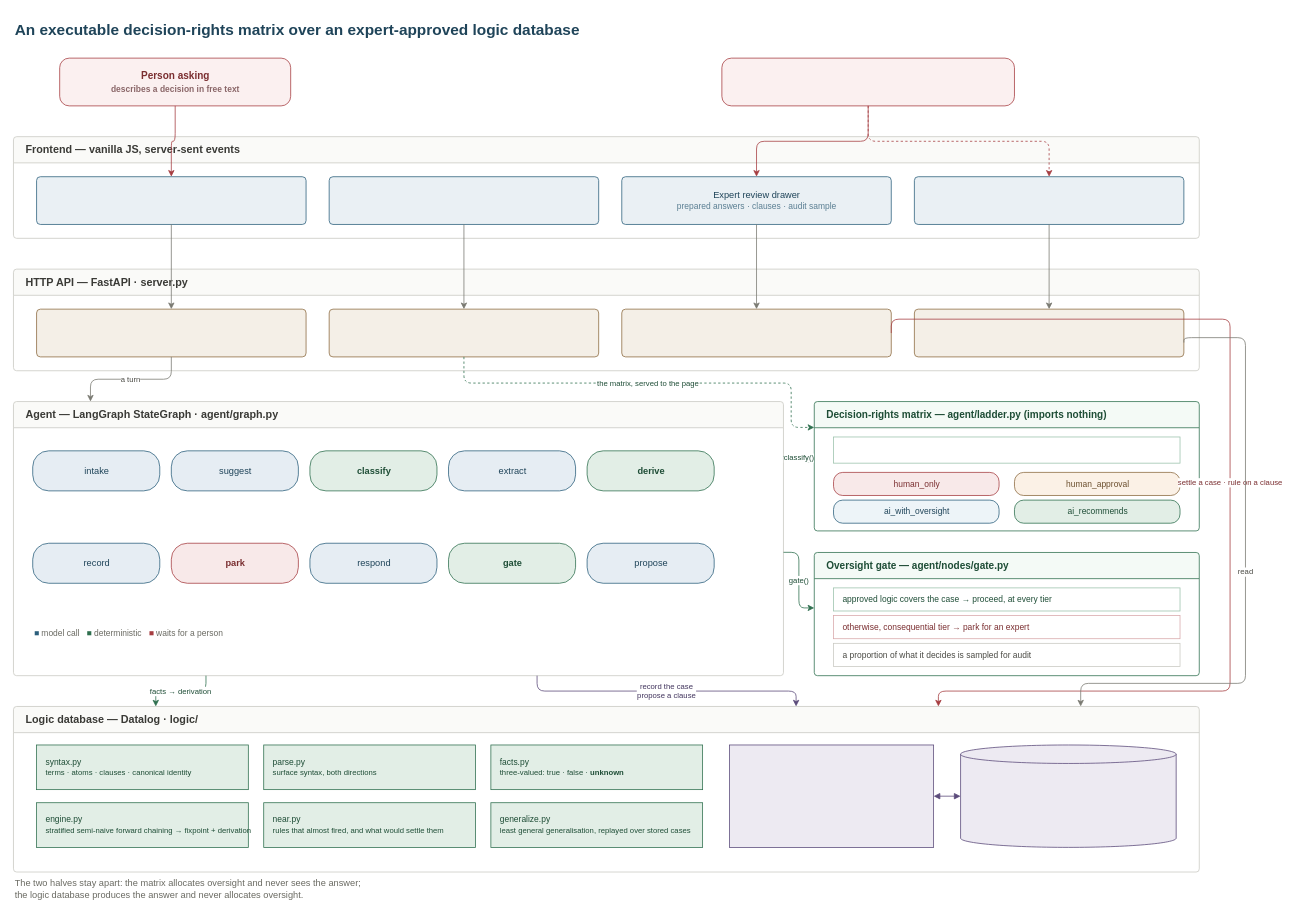
This 1296x915 diagram has some shape labels left out. The shapes that lost their labels are listed below. From the top down, each one's centre as x and y in pixels, then its label:
At [867,81]: "Domain expert rules on prepared answers and on clauses".
At [171,200]: "Console · index.html chat · model Haiku / Sonnet / Opus".
At [463,200]: "Matrix input — four sliders auto = far right · red bar shows the suggestion".
At [1049,200]: "Logic Database · database.html coverage · rules · cases · merge candidates".
At [171,332]: "POST /api/turn/stream SSE, token by token".
At [463,332]: "GET /api/scales · /api/tiers the matrix, served to the page".
At [756,332]: "GET · POST /api/expert/* queue · decision · audit · rule · retire".
At [1049,332]: "GET /api/db/* rules · cases · stats · generalisations · reset".
At [1006,449]: "classify(harm, reversibility, rights, confidence) → tier".
At [831,795]: "store.py one writer lifecycle · events · audits".
At [1068,795]: "data/logic.sqlite rules · cases · events · audits".
